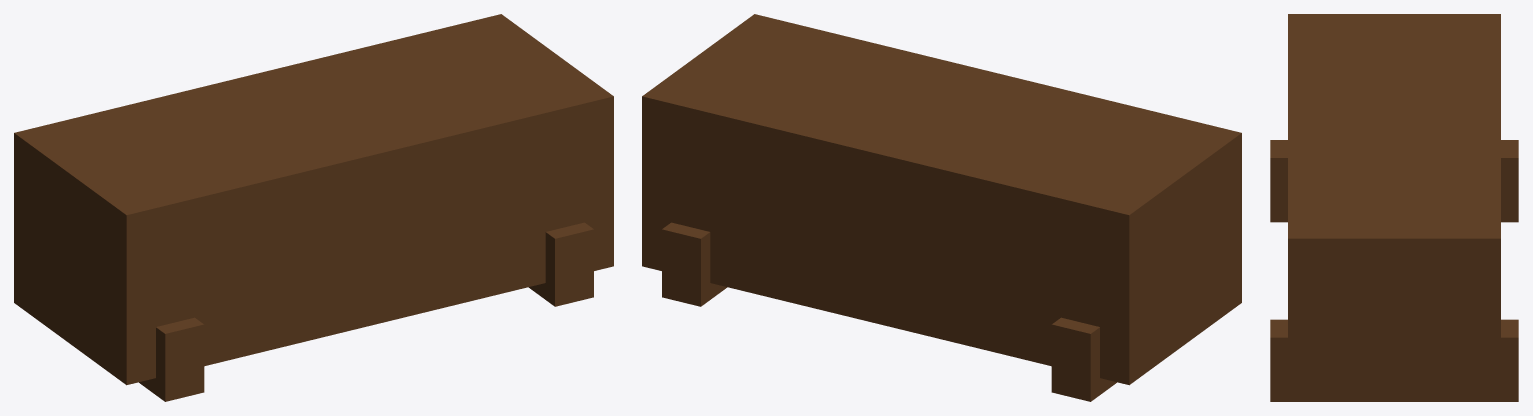
File: Prop_OR_Trough_00.glb
The picture shows the model from 3 angles, left to right: view 1: azimuth 30°, elevation 25°; view 2: azimuth 150°, elevation 25°; view 3: azimuth 270°, elevation 25°; orthographic projection. The views are drawn at different scales.
Parts seen in each view (by area): view 1: Prop_OR_Trough_00; view 2: Prop_OR_Trough_00; view 3: Prop_OR_Trough_00.
Boxes of the visible parts, x1,y1,x2,y2 form: Prop_OR_Trough_00: (14,14,613,401); Prop_OR_Trough_00: (642,14,1241,401); Prop_OR_Trough_00: (1270,14,1518,401).
Size of the model in its own units: 1.5 by 0.55 by 0.7.
